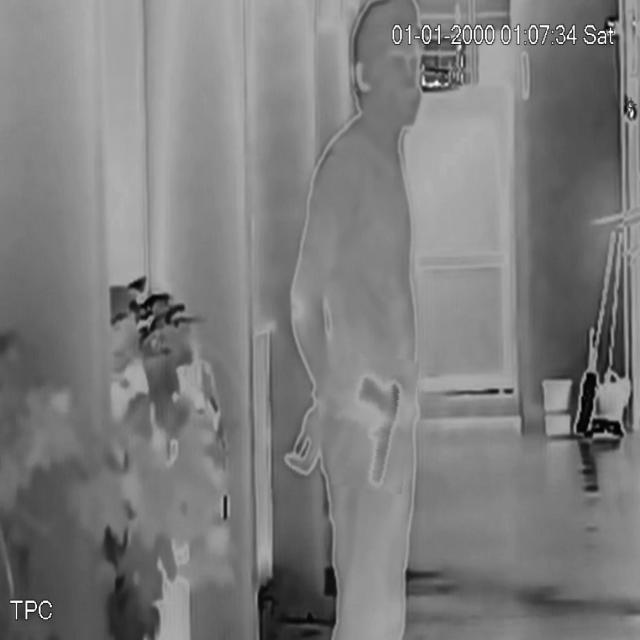Weapon: (336, 354, 416, 492)
